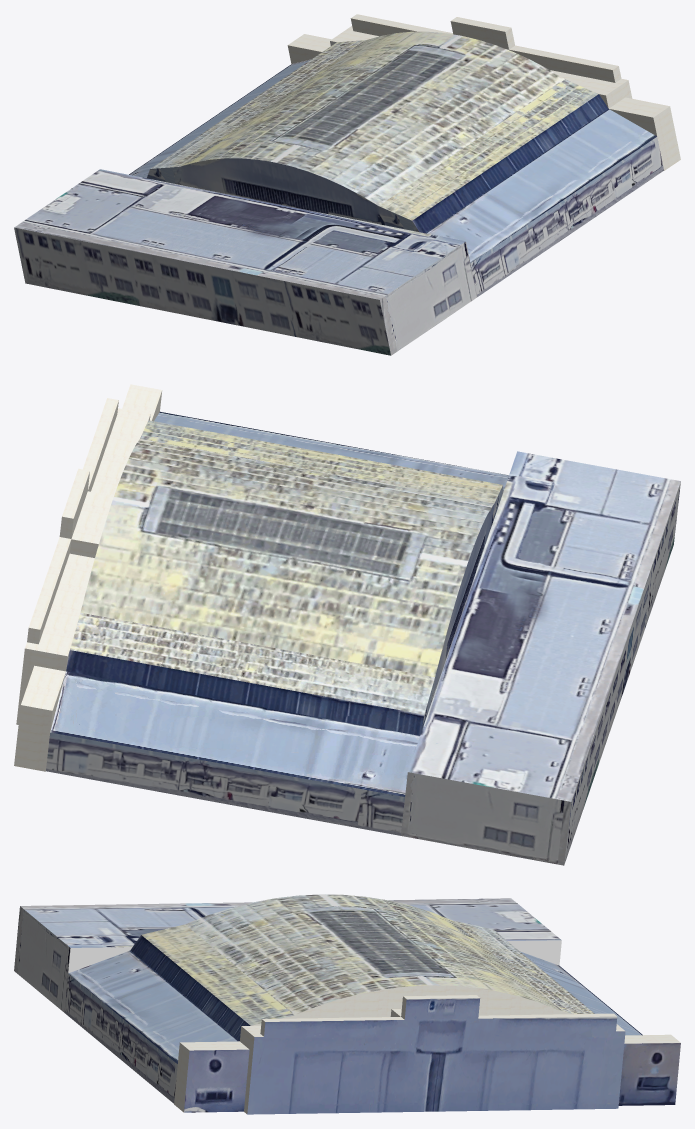
Rendered from Lecu_aisa.gltf.
The picture shows the model from 3 angles, top to bottom: view 1: azimuth 30°, elevation 25°; view 2: azimuth 150°, elevation 25°; view 3: azimuth 270°, elevation 25°; orthographic projection. The views are drawn at different scales.
Parts seen in each view (by area): view 1: hangares_aisa; view 2: hangares_aisa; view 3: hangares_aisa.
Part boxes in pixels (left/top/right/bottom): hangares_aisa: left=14, top=14, right=680, bottom=355; hangares_aisa: left=14, top=384, right=680, bottom=865; hangares_aisa: left=14, top=894, right=680, bottom=1114.
Size of the model in its own units: 80.81 by 27.23 by 83.85.
